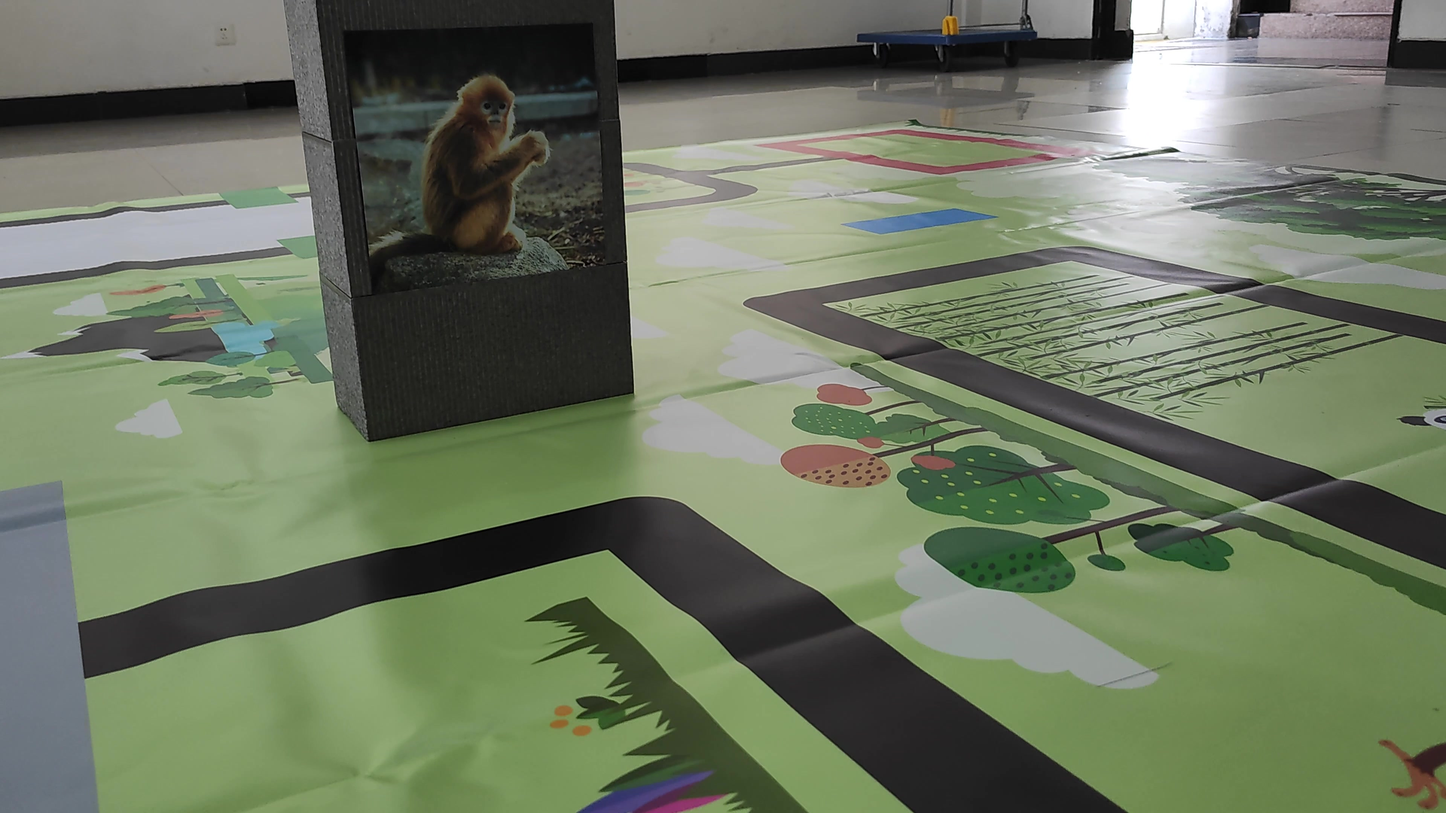monkey: (342, 59, 570, 268)
